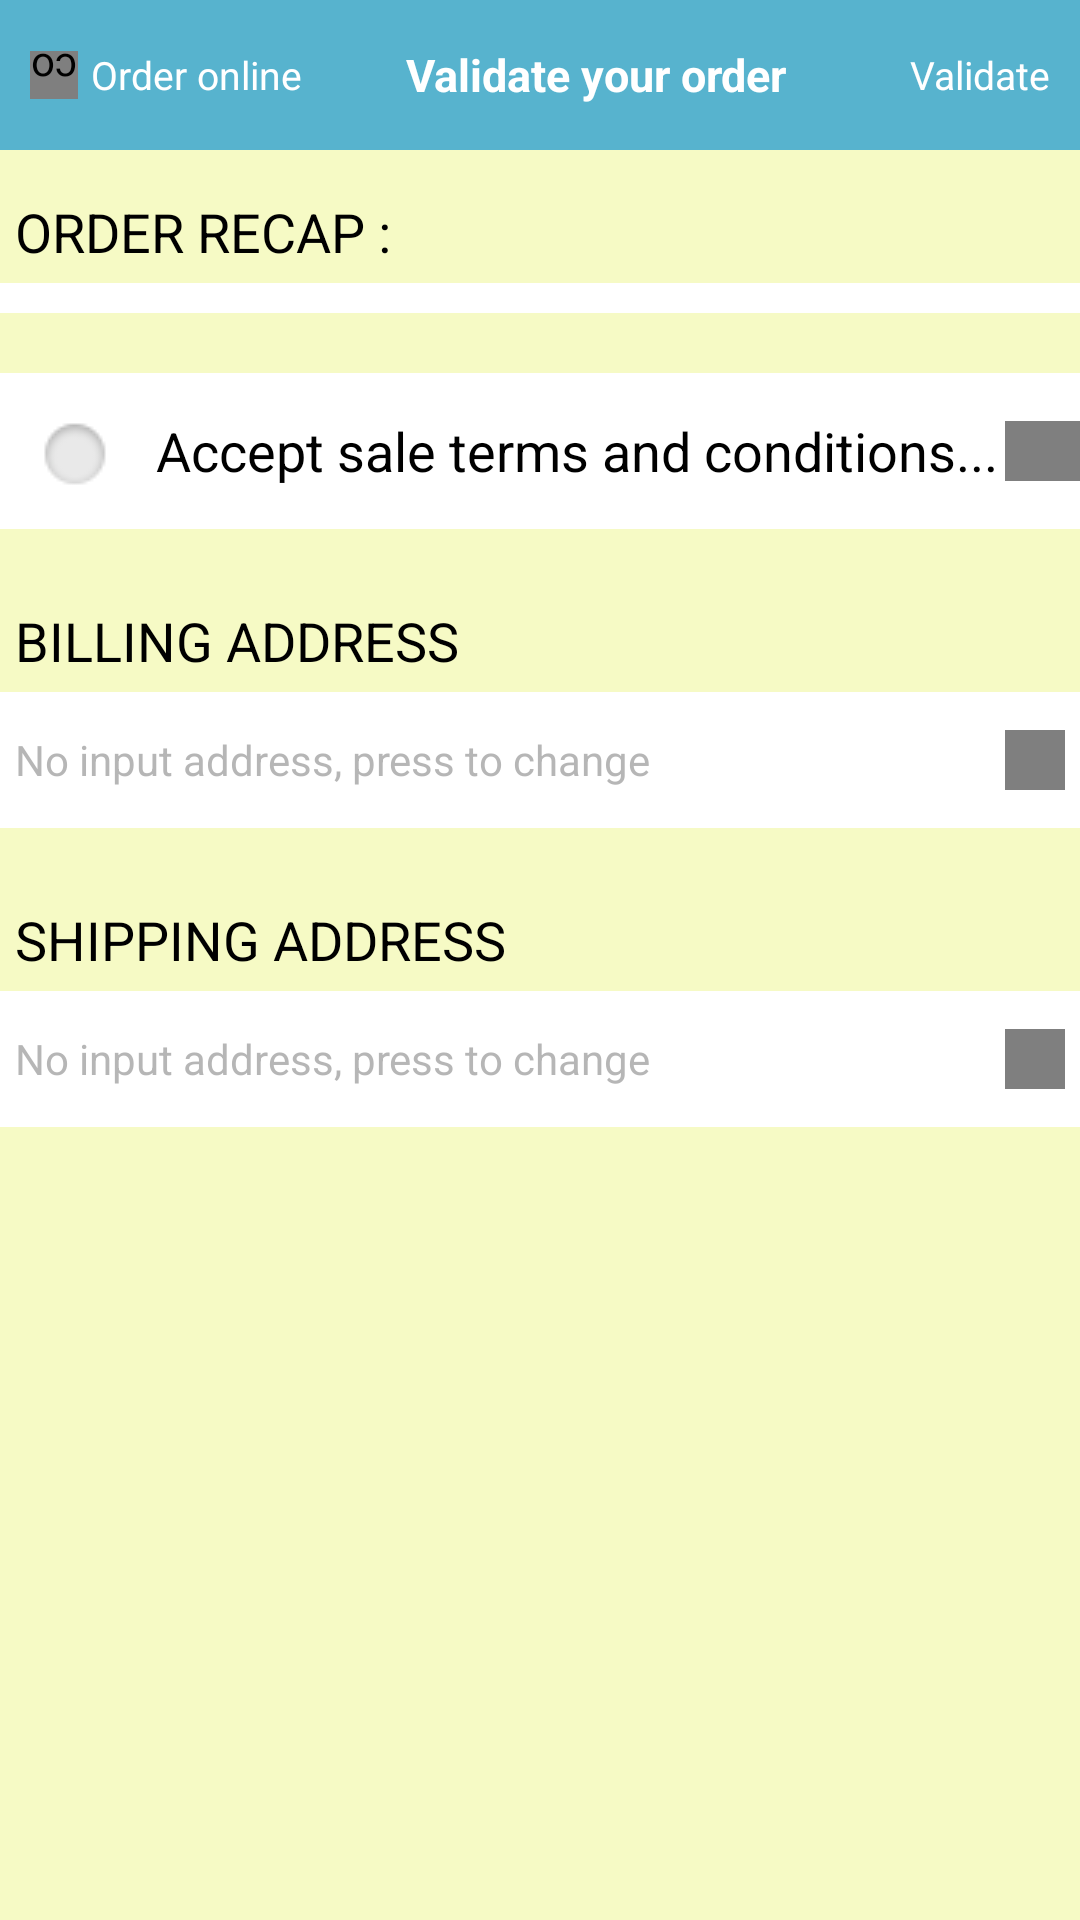

Where icons sit on this 1080 × 1920 app screen, as rect(x1, y1, x2, y2):
checkmark off: rect(44, 423, 106, 485)
